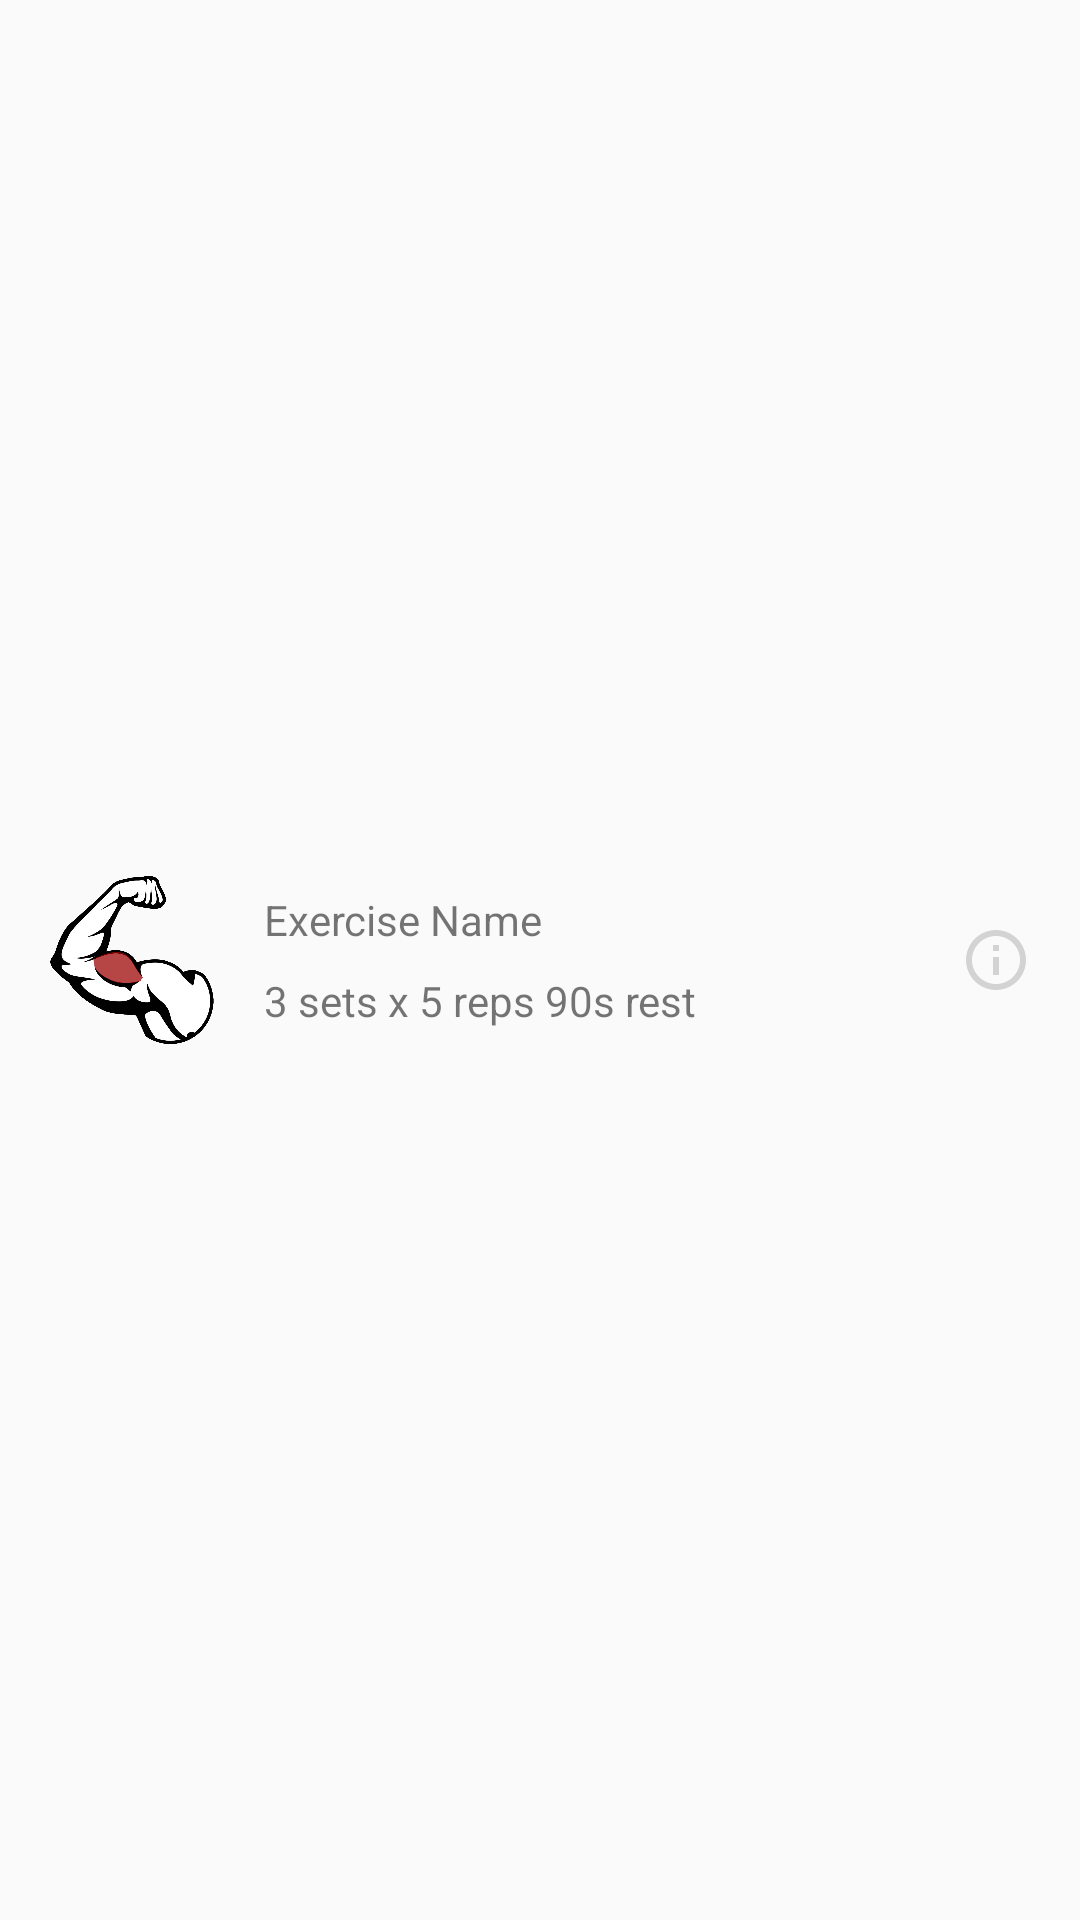

Where icons sit on this 1080px x 1920px app screen, as (x1=x1, y1=y1, x2=x2, y2=y2):
biceps mg: (x1=50, y1=876, x2=214, y2=1044)
info: (x1=966, y1=930, x2=1026, y2=990)
